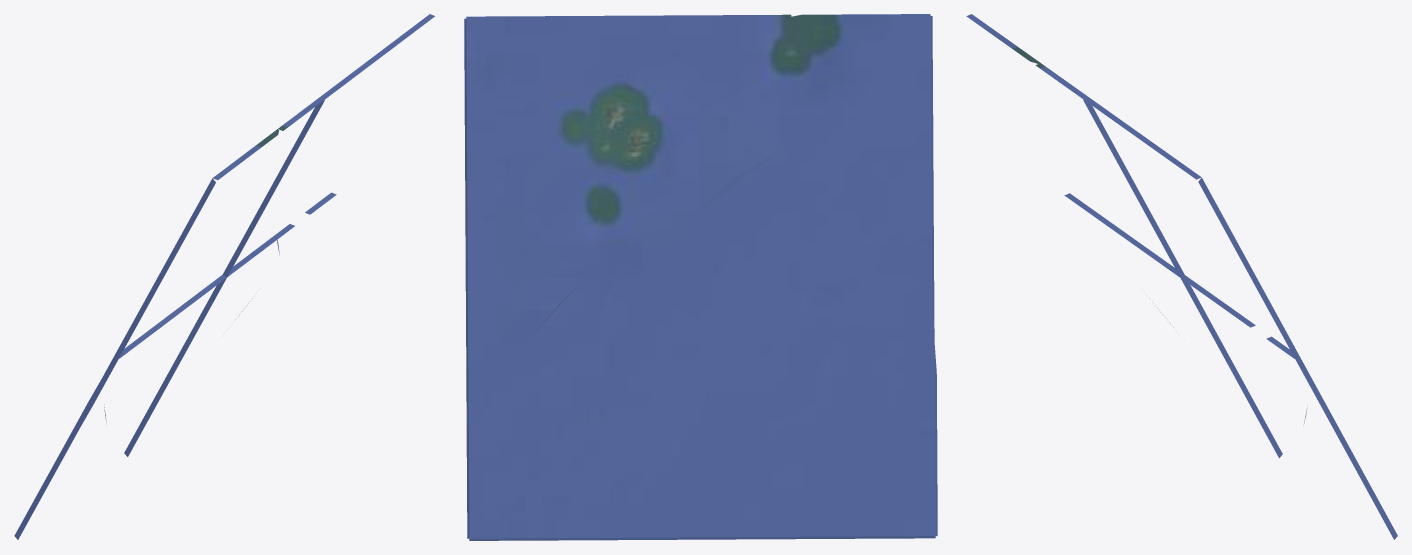
3 views of the same model, side by side, from view 1: azimuth 30°, elevation 25°; view 2: azimuth 150°, elevation 25°; view 3: azimuth 270°, elevation 25° (orthographic). The views are drawn at different scales.
Bounding box in the file's own units: 39602 × 35316 × 33563.
Materials: 1 (1 with a texture image).
